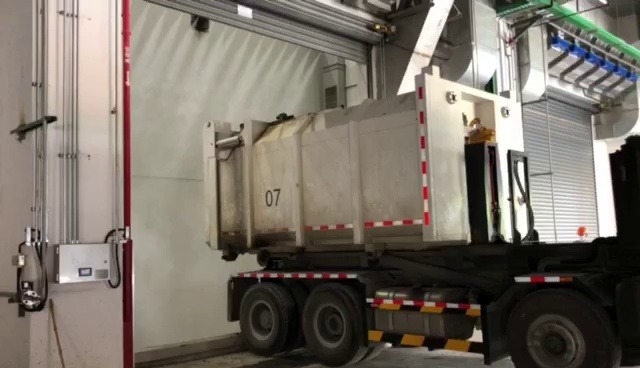dust: (136, 155, 203, 342)
truck: (200, 74, 640, 368)
